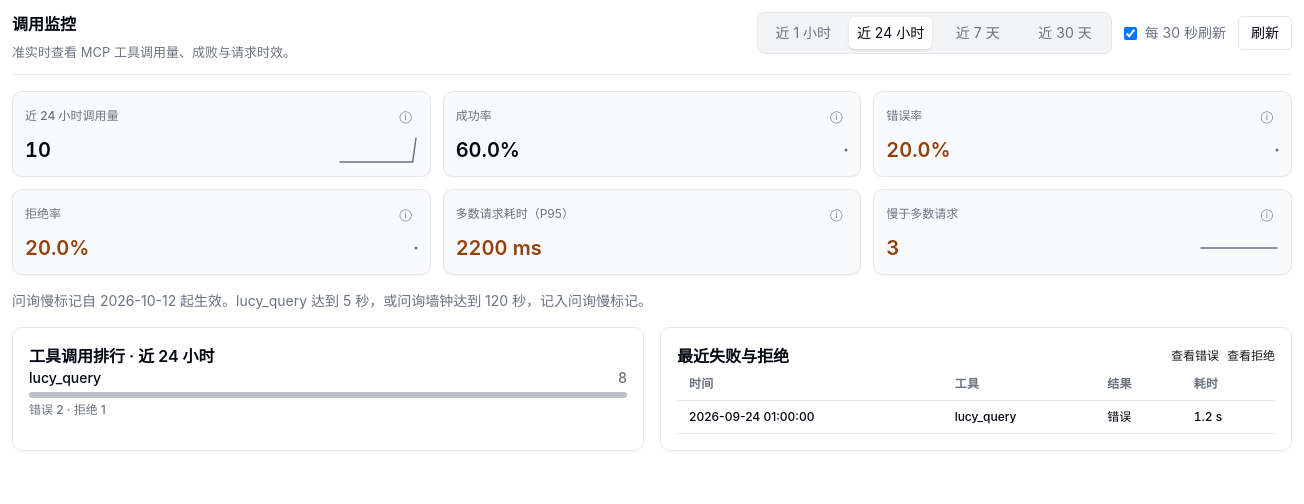
Test case: CallMonitor page › keeps the last snapshot when a later refresh fails
The image size is (1304, 504).
Expected: the text "10" is shown, top-left (25, 136), bottom-right (51, 164)
Click the button with test id "call-monitor-refresh".
click(1265, 33)  # box top-left (1238, 16), bottom-right (1292, 50)
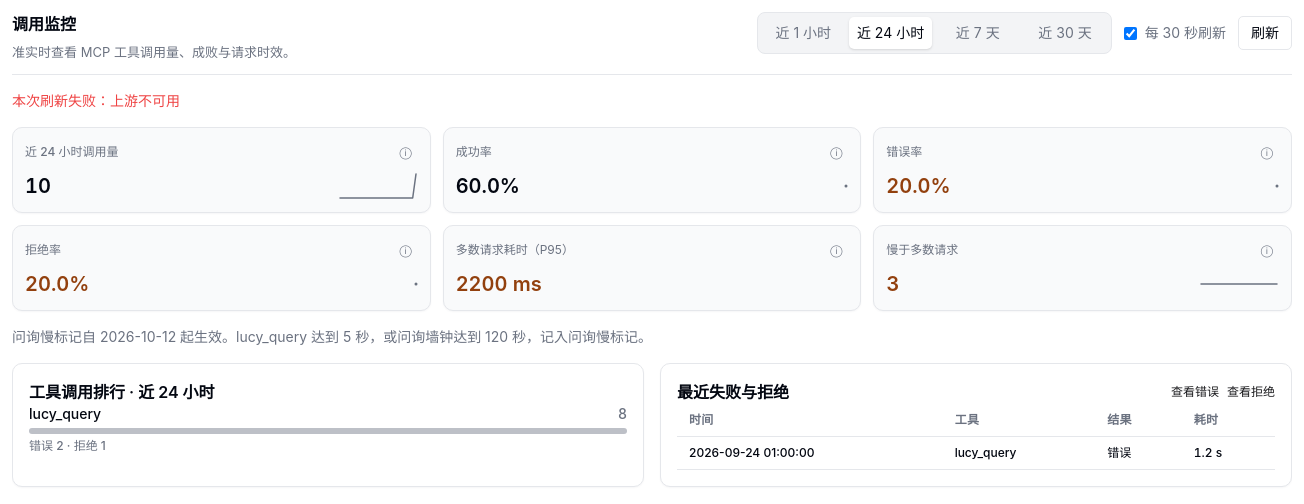
Expected: the element with test id "call-monitor-kpi-volume" shows "10", top-left (25, 174), bottom-right (51, 198)
Expected: the text "本次刷新失败：上游不可用" is shown, top-left (12, 92), bottom-right (180, 109)
